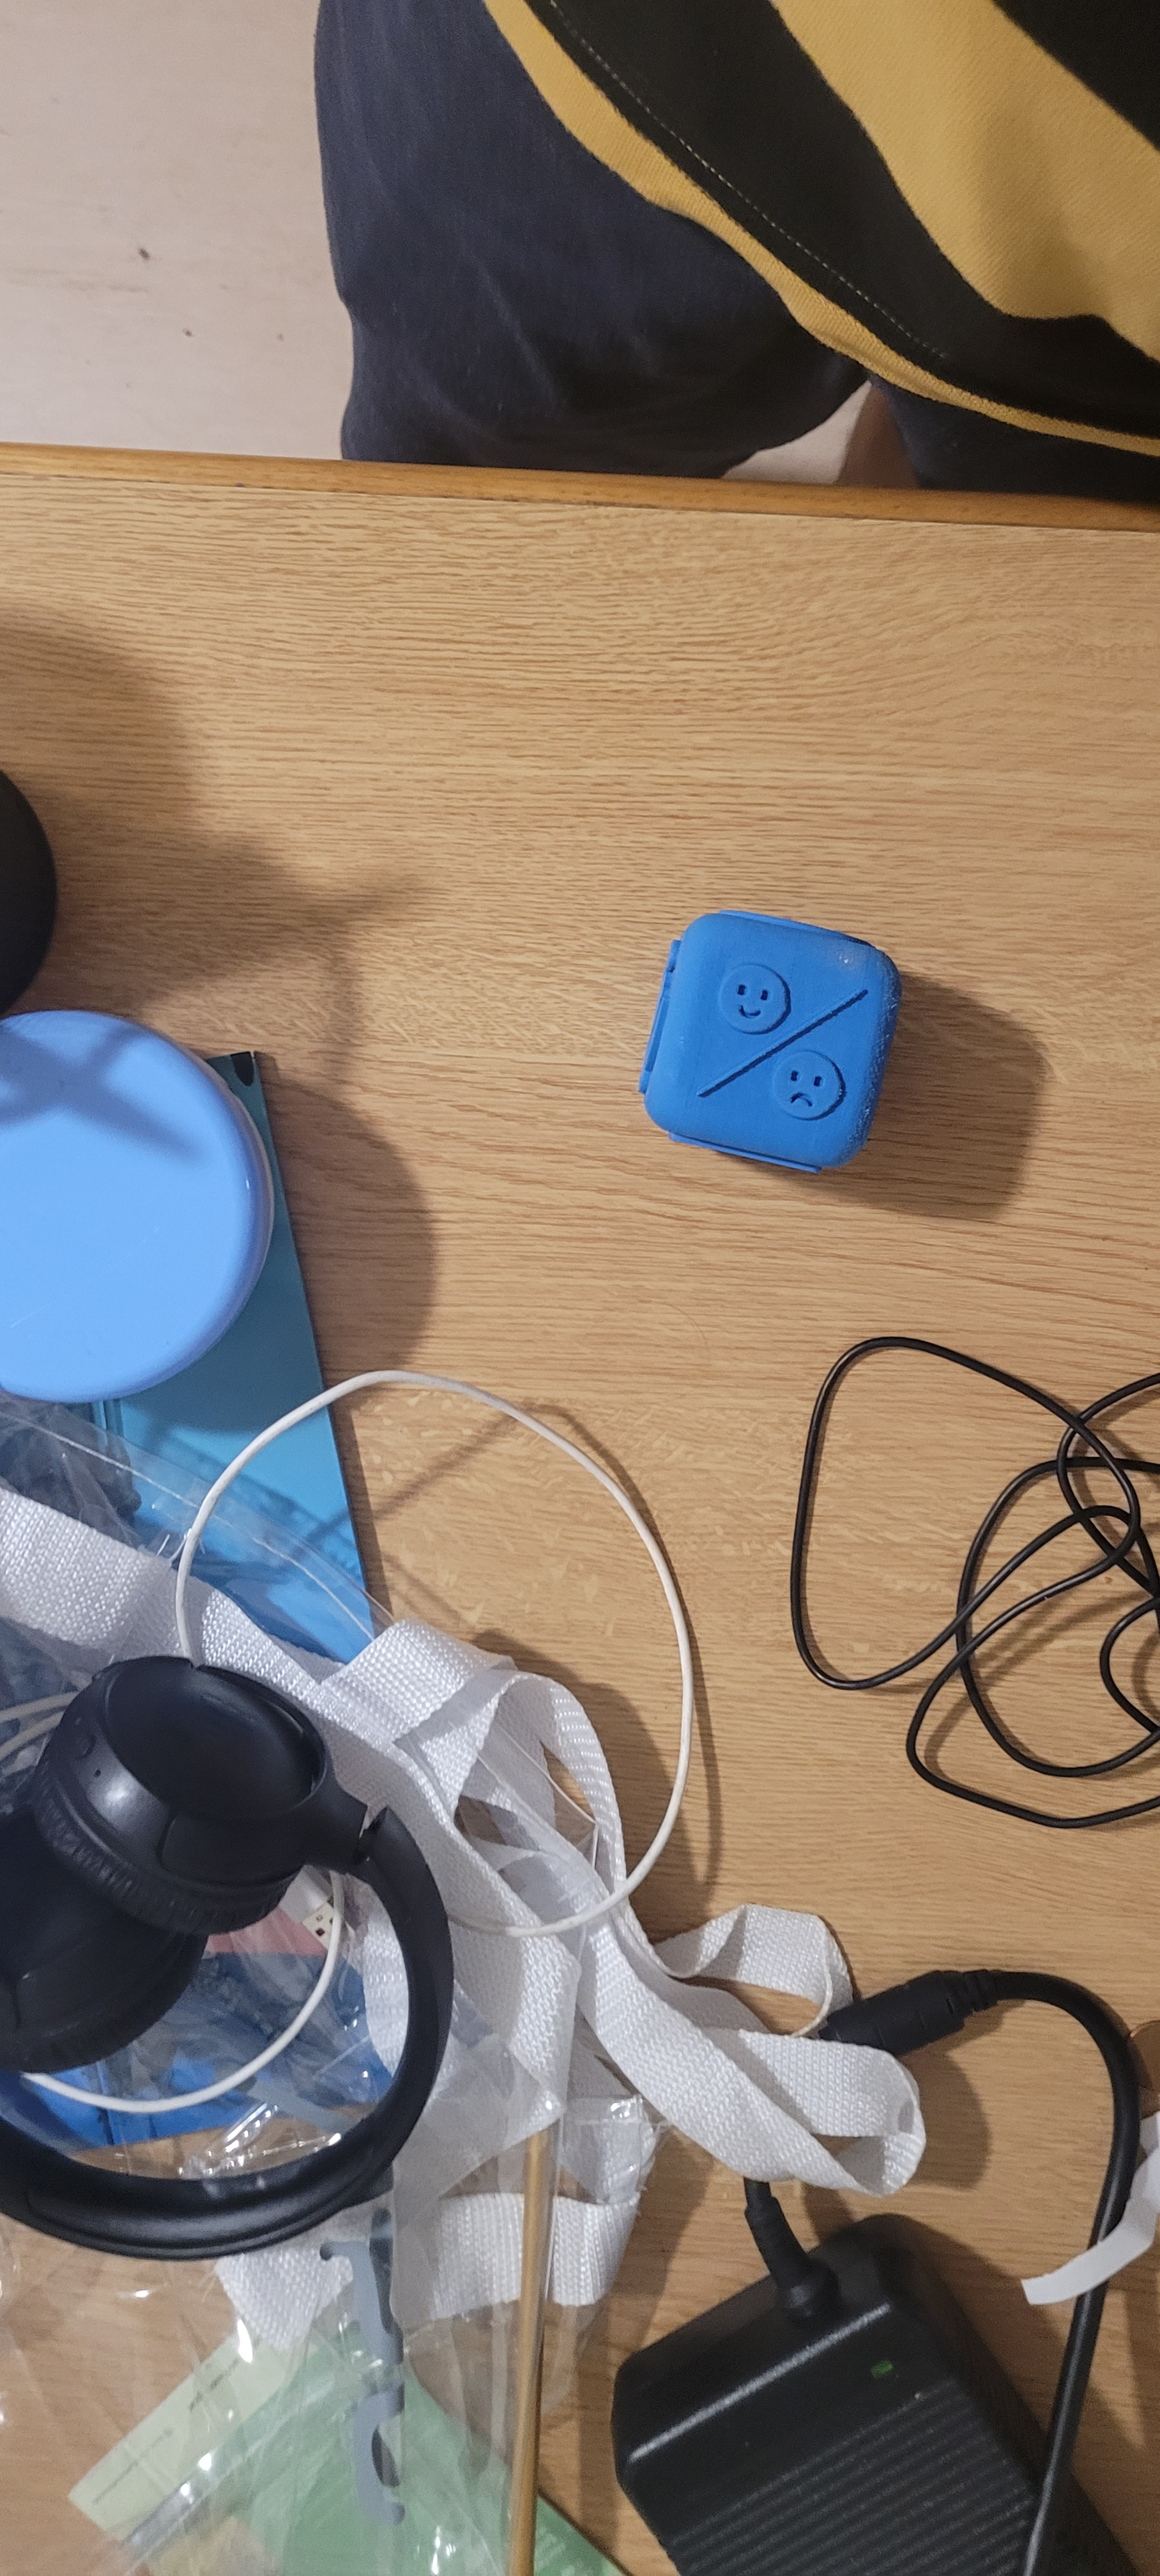Like/Dislike: (646, 936, 933, 1129)
